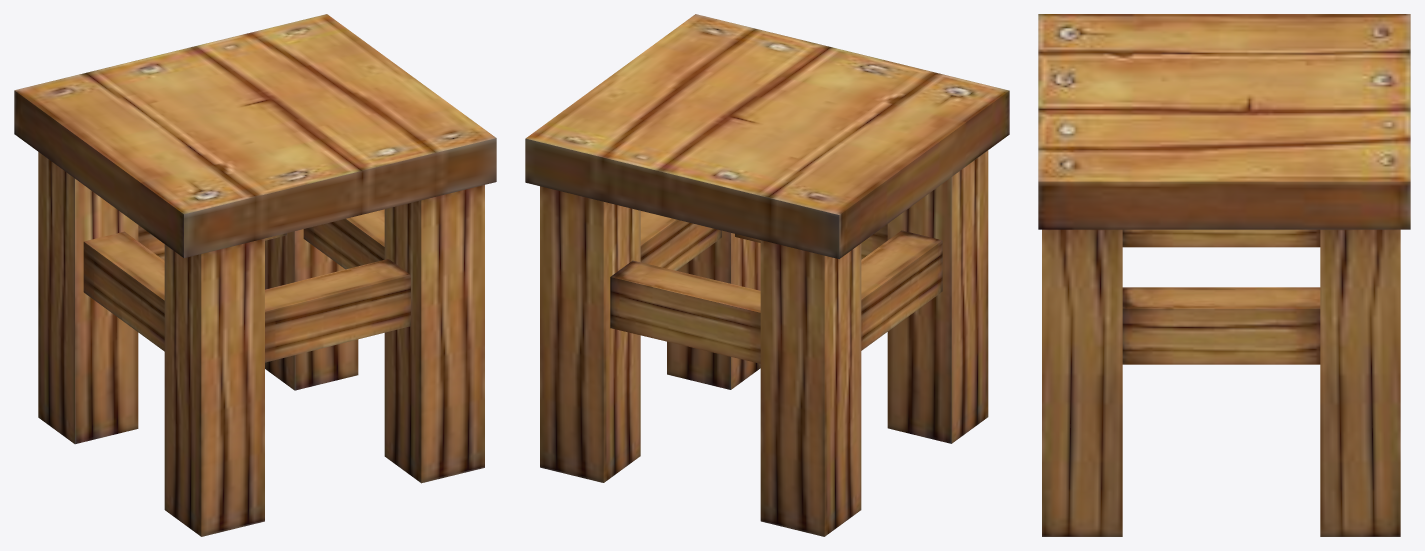
File: SM_Chair_01.gltf
The picture shows the model from 3 angles, left to right: view 1: azimuth 30°, elevation 25°; view 2: azimuth 150°, elevation 25°; view 3: azimuth 270°, elevation 25°; orthographic projection. The views are drawn at different scales.
Parts seen in each view (by area): view 1: SM_Chair_01; view 2: SM_Chair_01; view 3: SM_Chair_01.
Part boxes in pixels (bbox=[...]): SM_Chair_01: bbox=[14, 14, 496, 536]; SM_Chair_01: bbox=[525, 14, 1009, 536]; SM_Chair_01: bbox=[1038, 14, 1410, 536].
Bounding box in the file's own units: 0.3656 × 0.3672 × 0.3434.
Materials: 1 (1 with a texture image).
